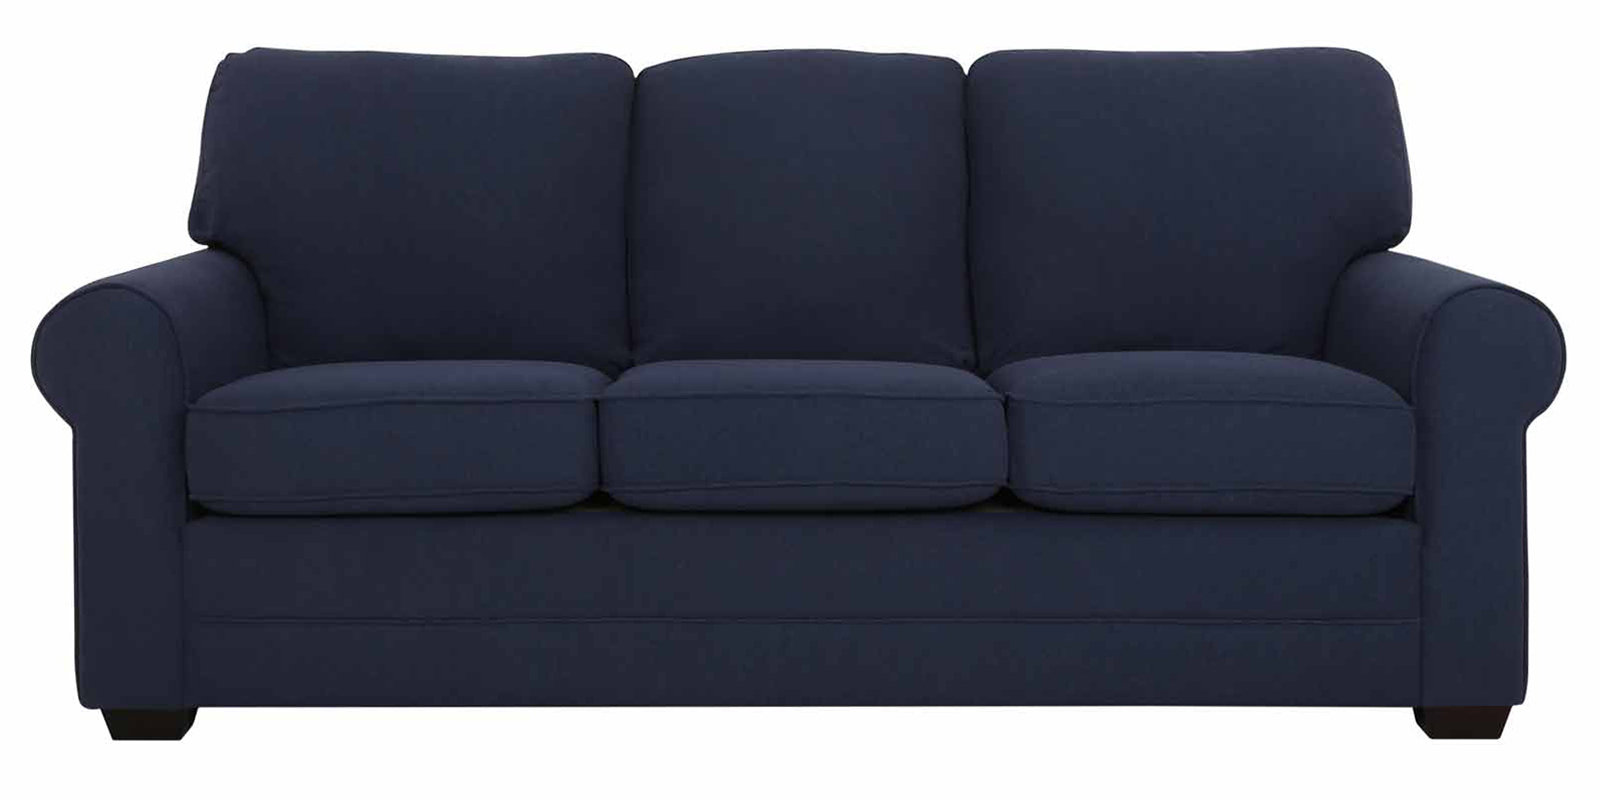Madeira Three Seater Sofa in Navy Blue Colour by CasaCraft: (30, 47, 1569, 742)
